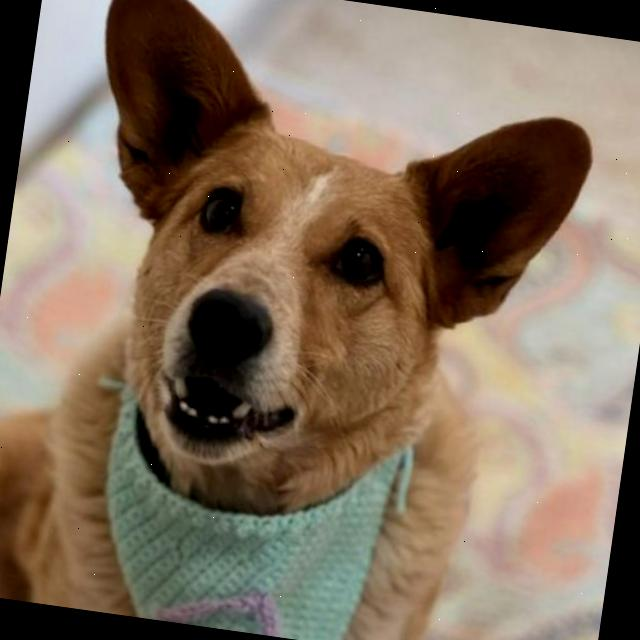corgi_dog: (30, 0, 627, 565)
